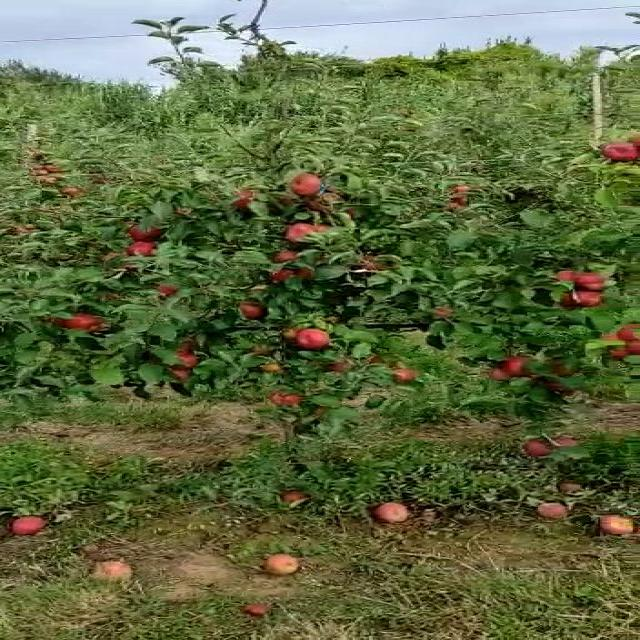100-_ripeness: (562, 271, 611, 291), (504, 356, 547, 378), (291, 329, 334, 350), (293, 172, 327, 197), (602, 139, 640, 161), (160, 348, 196, 371), (122, 224, 165, 240), (66, 315, 106, 332), (378, 369, 422, 383), (576, 288, 604, 308), (287, 223, 318, 241), (124, 238, 152, 256), (616, 323, 640, 343), (236, 303, 262, 321), (269, 267, 296, 283)
